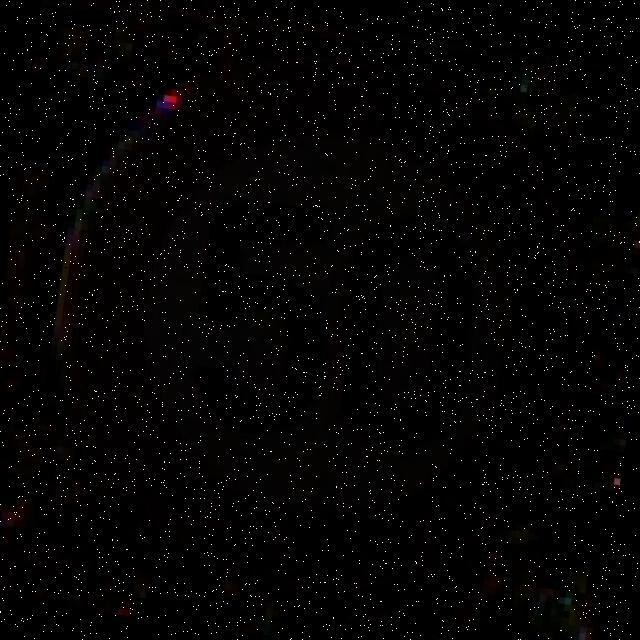Ograniczenie predkosci do 50: (32, 37, 604, 614)
